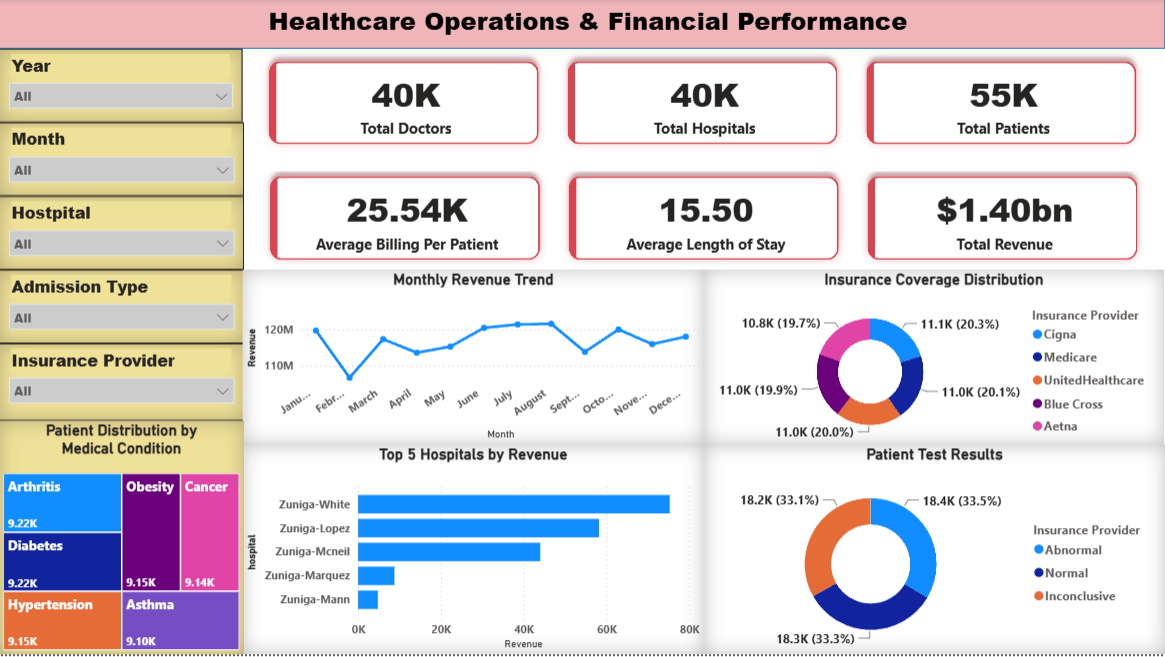

Layout of this report page (visuals, bound fields, positions):
{"tool":"powerbi","page":{"name":"Healthcare Operations & Financial Performance","canvas":[1280,720],"ordinal":0},"visuals":[{"type":"cardVisual","fields":{"Data":["healthcare_data.Average Billing Per Patient","healthcare_data.Average Length of Stay","healthcare_data.Total Revenue"]},"box":[269,166,1011,150],"z":0},{"type":"cardVisual","fields":{"Data":["healthcare_data.Total Doctors","healthcare_data.Total Hospitals","healthcare_data.Total Patients"]},"box":[267.6,39.8,1011.3,149.6],"z":1000},{"type":"shape","box":[0,54.9,267.6,408.9],"z":2000},{"type":"shape","box":[0,0,1280.3,54.9],"z":3000},{"type":"textbox","box":[290.9,0,966,54.9],"z":4000},{"type":"slicer","fields":{"Values":["healthcare_data.hospital"]},"box":[0,216.8,269,81],"z":5000},{"type":"slicer","fields":{"Values":["healthcare_data.Year"]},"box":[0,54.9,267.6,81],"z":6000},{"type":"slicer","fields":{"Values":["healthcare_data.insurance_provider"]},"box":[0,378.7,269,85.1],"z":7000},{"type":"slicer","fields":{"Values":["healthcare_data.admission_type"]},"box":[0,297.8,269,81],"z":8000},{"type":"slicer","fields":{"Values":["healthcare_data.Month.Variation.Date Hierarchy.Month","healthcare_data.Month Number"]},"box":[0,135.8,269,81],"z":9000},{"type":"lineChart","title":"Monthly Revenue Trend","fields":{"Category":["healthcare_data.Month.Variation.Date Hierarchy.Month"],"Y":["healthcare_data.Revenue"]},"box":[267.6,297.8,506.3,192.1],"z":9002},{"type":"clusteredBarChart","title":"Top 5 Hospitals by Revenue","fields":{"Category":["healthcare_data.hospital"],"Y":["healthcare_data.Revenue"]},"box":[267.6,489.9,506.3,230.5],"z":9003},{"type":"treemap","title":"Patient Distribution by Medical Condition","fields":{"Group":["healthcare_data.medical_condition"],"Values":["healthcare_data.Patient Count"]},"box":[0,463.8,269,256.6],"z":9004},{"type":"donutChart","title":"Insurance Coverage Distribution","fields":{"Category":["healthcare_data.insurance_provider"],"Y":["healthcare_data.Patient Count"]},"box":[773.9,297.8,505,192.1],"z":9005},{"type":"donutChart","title":"Patient Test Results","fields":{"Category":["healthcare_data.test_results"],"Y":["healthcare_data.Patient Count"]},"box":[773.9,489.9,506.3,230.5],"z":9007}]}

Visuals, with their boxes in screenshot pixels (x1, y1, x2, y2), scaled from the page's 1280x720 canvas onto the 1165x657 screenshot:
cardVisual - healthcare_data.Average Billing Per Patient x healthcare_data.Average Length of Stay: 245:151:1164:288
cardVisual - healthcare_data.Total Doctors x healthcare_data.Total Hospitals: 244:36:1164:173
shape: 0:50:244:423
shape: 0:0:1164:50
textbox: 265:0:1144:50
slicer - healthcare_data.hospital: 0:198:245:272
slicer - healthcare_data.Year: 0:50:244:124
slicer - healthcare_data.insurance_provider: 0:346:245:423
slicer - healthcare_data.admission_type: 0:272:245:346
slicer - healthcare_data.Month.Variation.Date Hierarchy.Month x healthcare_data.Month Number: 0:124:245:198
"Monthly Revenue Trend" lineChart: 244:272:704:447
"Top 5 Hospitals by Revenue" clusteredBarChart: 244:447:704:656
"Patient Distribution by Medical Condition" treemap: 0:423:245:656
"Insurance Coverage Distribution" donutChart: 704:272:1164:447
"Patient Test Results" donutChart: 704:447:1164:656
